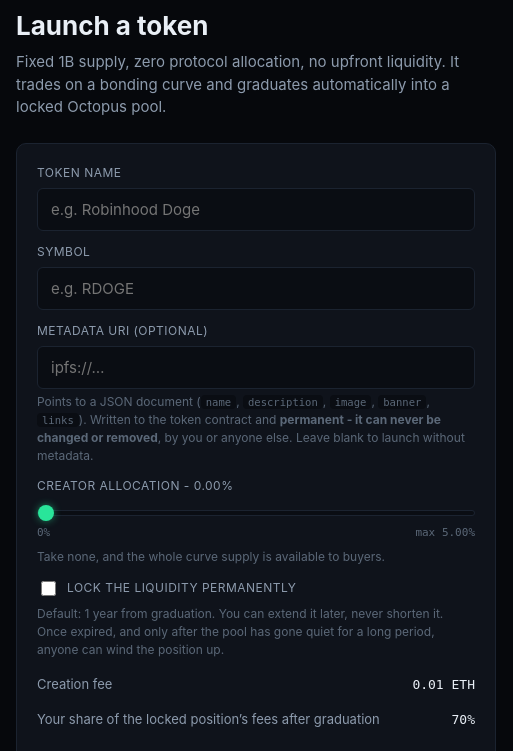
CreatePage guards what cannot be undone › says a permanent lock is terminal, before it can be submitted
Click the checkbox labelled "Lock the liquidity permanently": x=48, y=588 41,581 -> 56,596
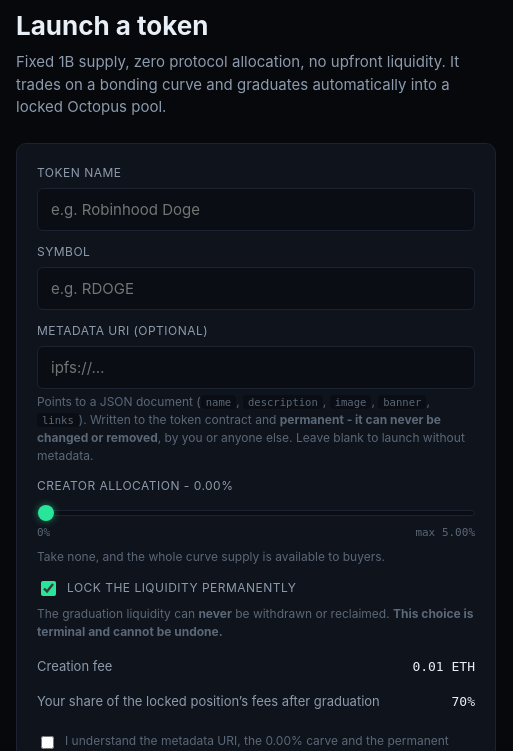
expect the text "This choice is terminal and cannot be undone." is shown: met, box 37,606 -> 474,639
